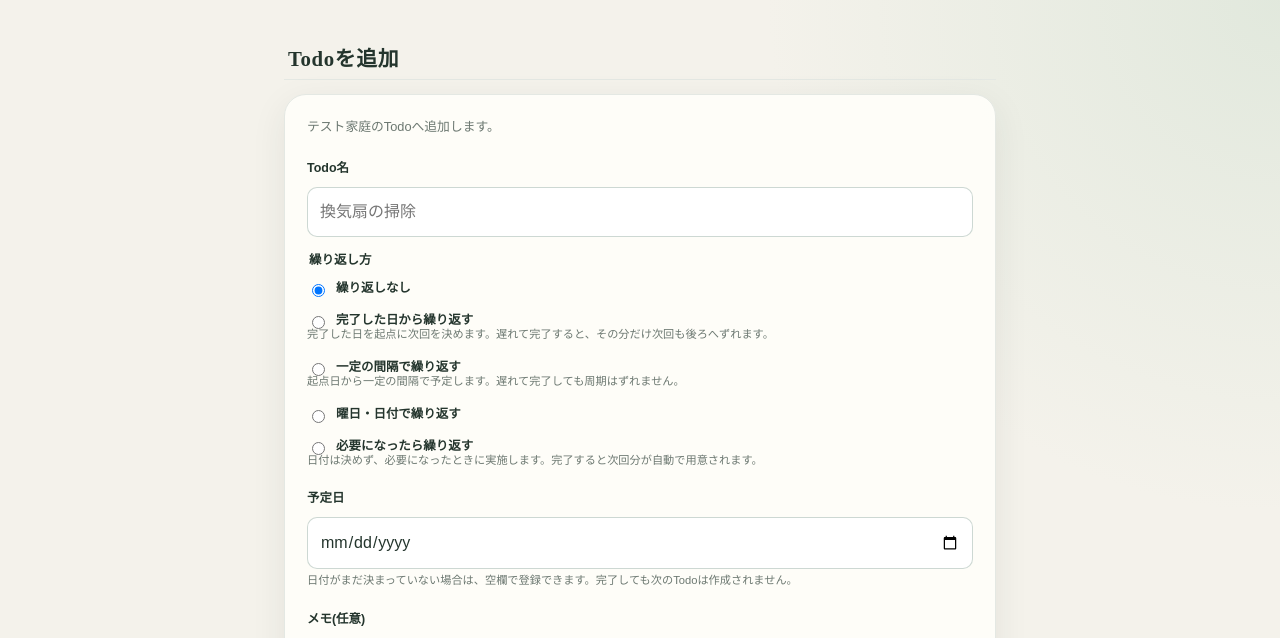
it: Todo登録ページ › 完了日基準を選ぶと周期と初回の入力へ切り替わる
The image size is (1280, 638).
Step 1. Click the radio button labelled "完了した日から繰り返す" → (318, 322), box left=312, top=316, right=325, bottom=329
(page scrolled)
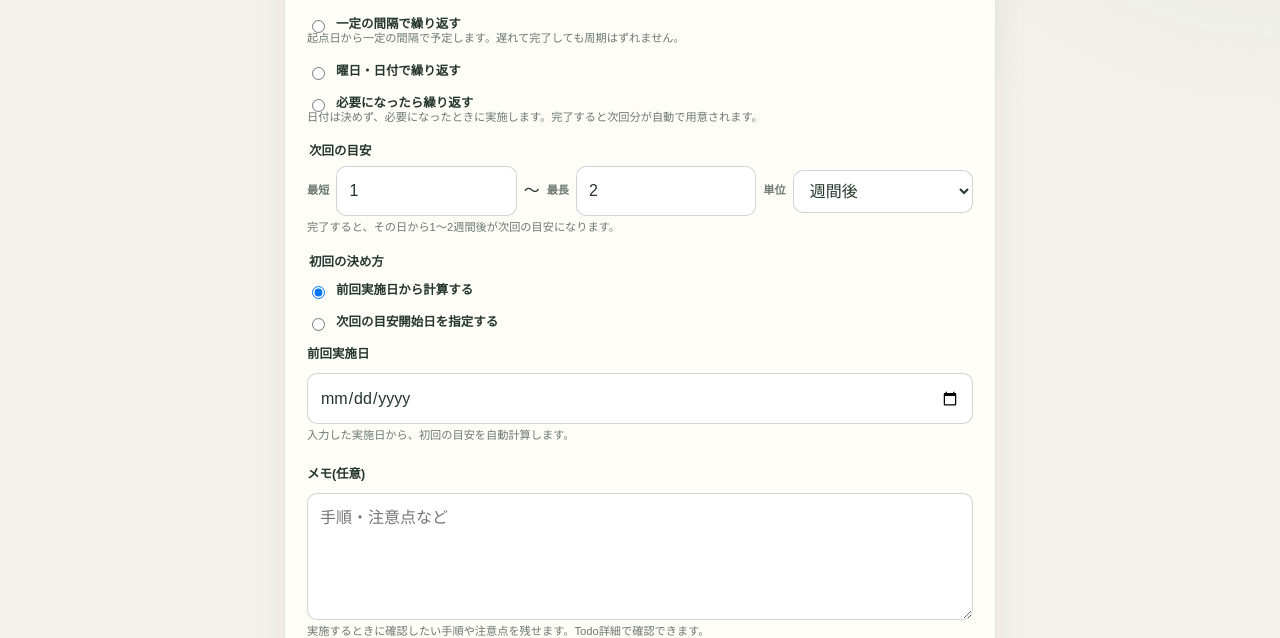
Now the number field labelled "最短" holds "1", box left=336, top=166, right=517, bottom=216
Now the number field labelled "最長" holds "2", box left=576, top=166, right=756, bottom=216
Now the dropdown labelled "単位" shows "週間後", box left=793, top=170, right=973, bottom=213
